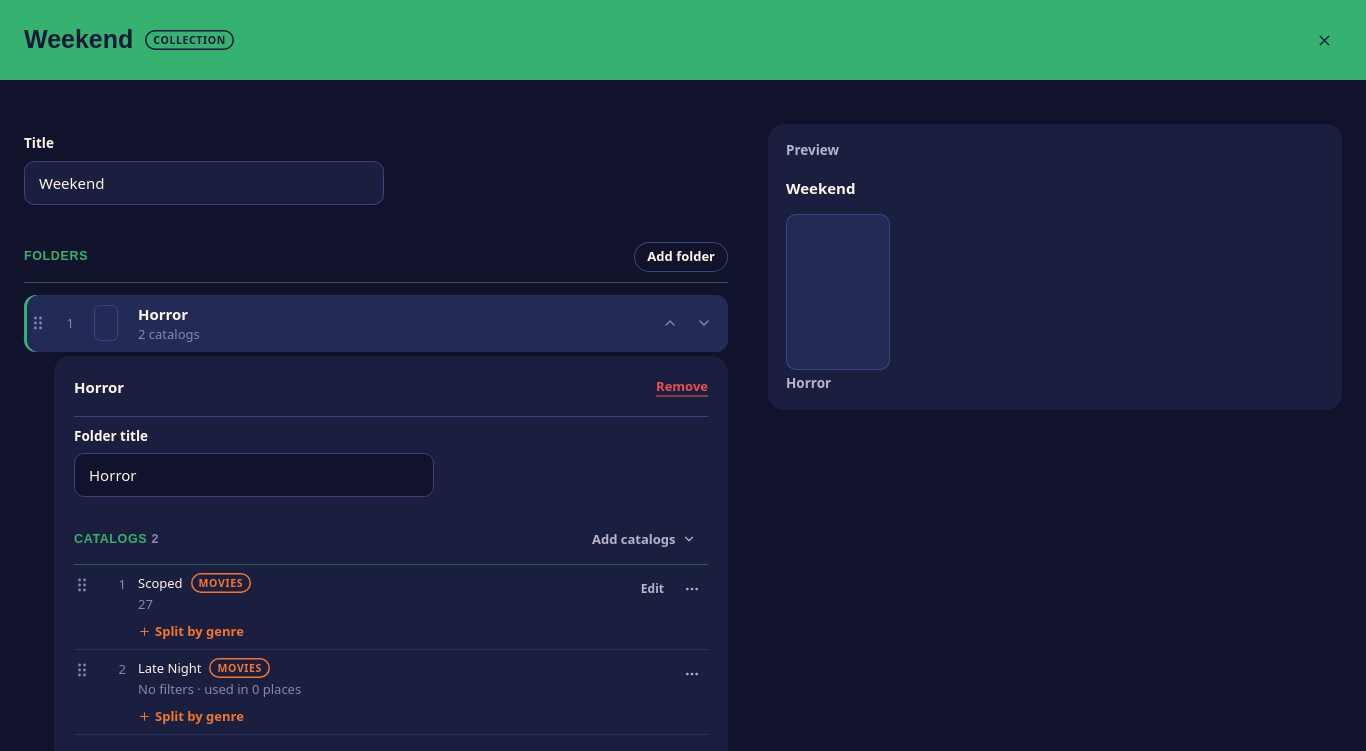
Test: CollectionEditor › Copy into library › says why a copy failed
Press the mouse on the button named "More for Scoped" at x=692, y=589, box 676,573 -> 708,605
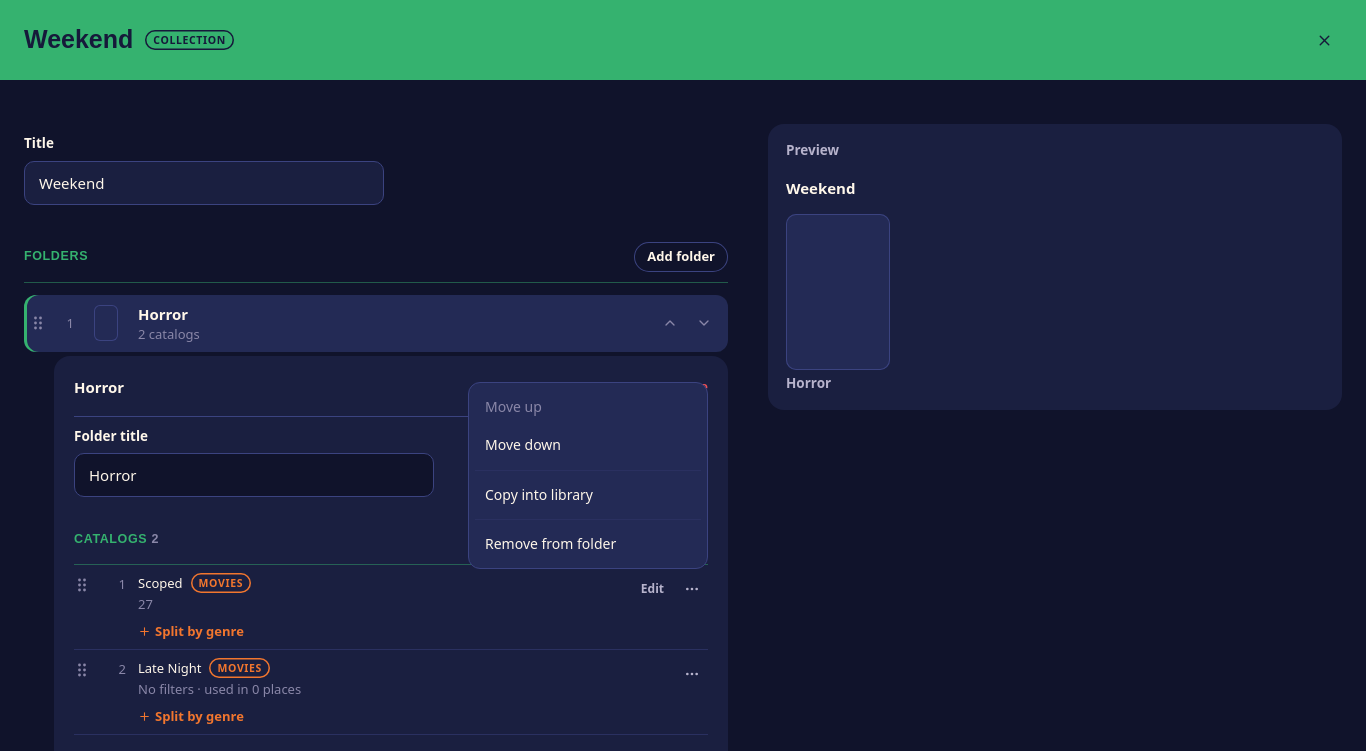
Click the menu item "Copy into library".
click(539, 494)  # box 485,485 -> 593,504
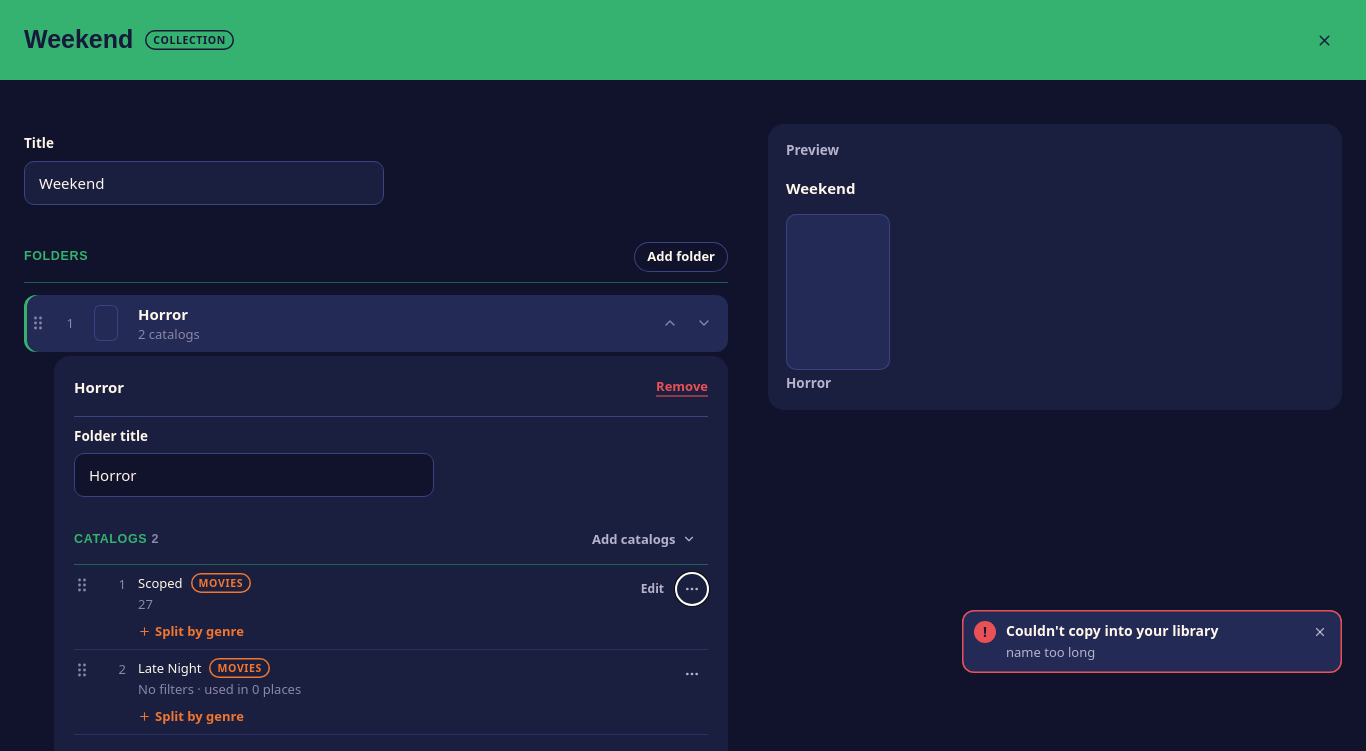
Expected: the text "Couldn't copy into your library" is shown, 1006,621 -> 1218,640
Expected: the text "name too long" is shown, 1006,643 -> 1095,661
